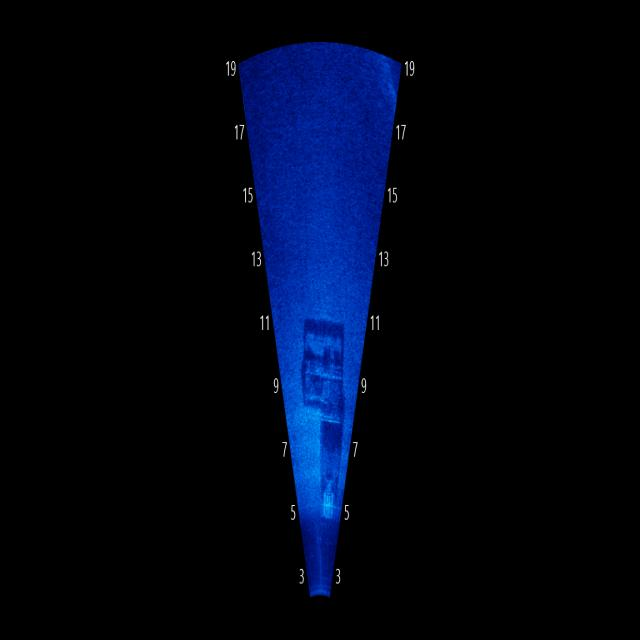square: (300, 312, 349, 426)
